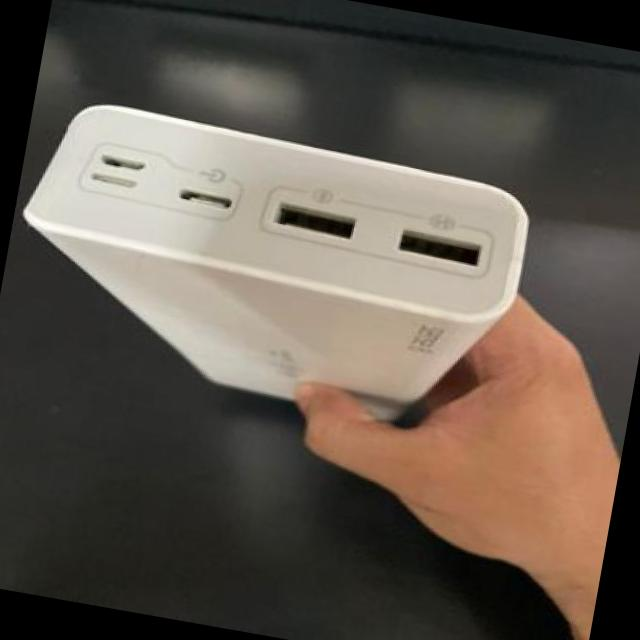portable-charger: (0, 38, 552, 458)
